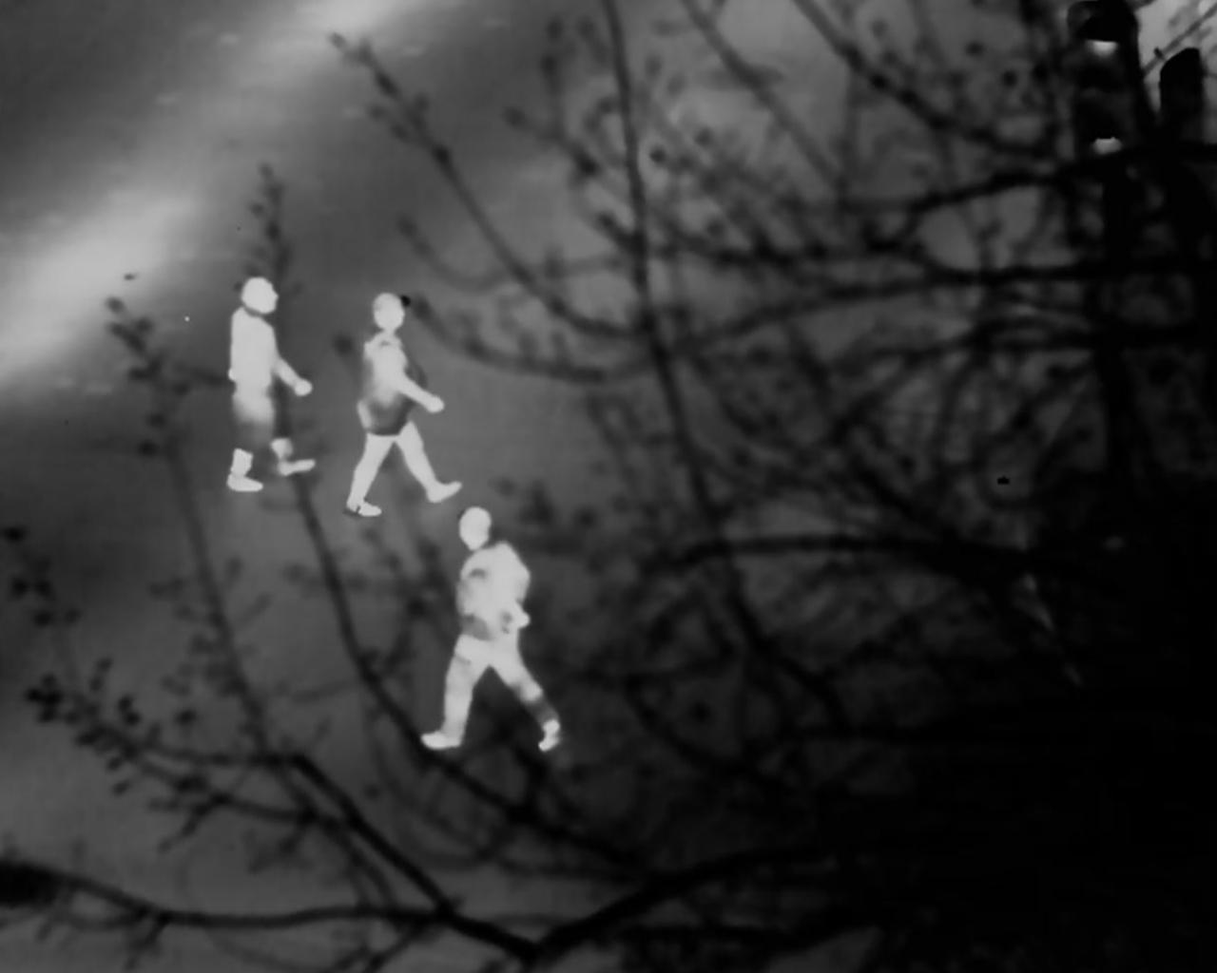person: (418, 504, 564, 737), (357, 296, 453, 524), (212, 273, 307, 490)
